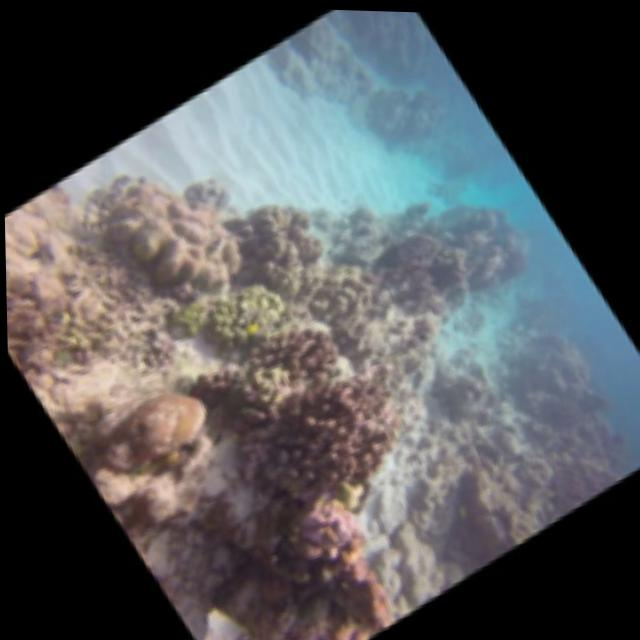Dead Coral: (74, 105, 273, 325), (361, 190, 496, 335)
